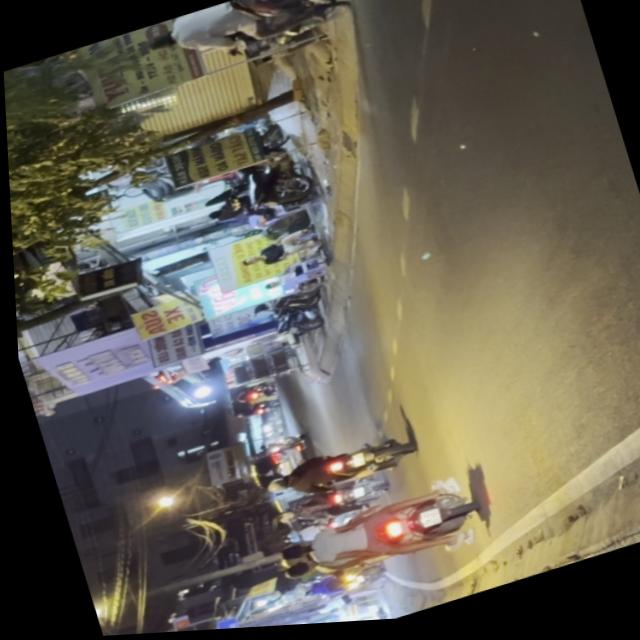licenseplate: (257, 473, 485, 598), (131, 0, 358, 79)
motorcyclist: (271, 540, 307, 565), (140, 30, 174, 55)
nohelmet: (411, 510, 435, 532), (257, 0, 275, 2)
